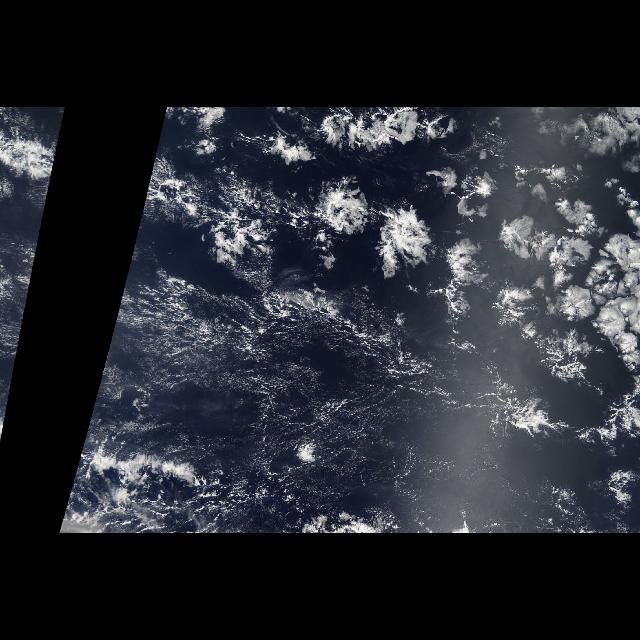Flower: (259, 107, 639, 405)
Gravel: (58, 439, 456, 533)
Sugar: (117, 276, 459, 462)
